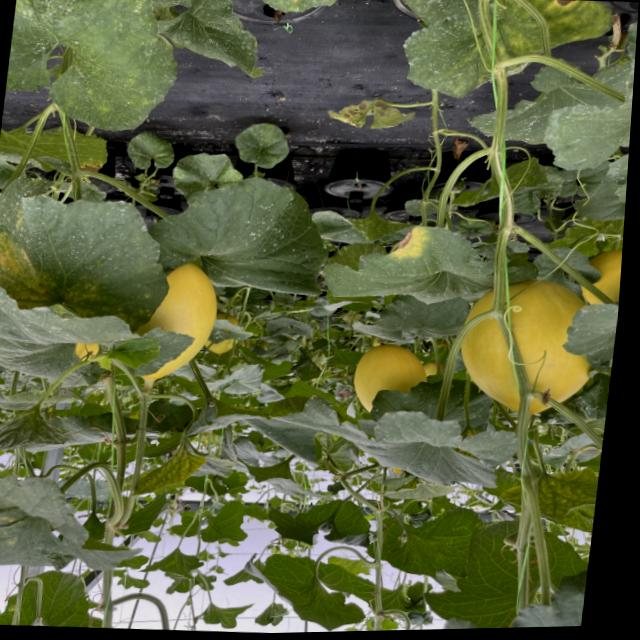CMV: (0, 0, 196, 139)
alternaria leaf blight: (0, 189, 185, 333), (307, 220, 529, 318), (131, 441, 239, 502), (328, 95, 421, 138)
downy mildew: (349, 392, 529, 499), (0, 453, 150, 577)
healthy: (150, 166, 330, 304), (236, 546, 384, 632)
